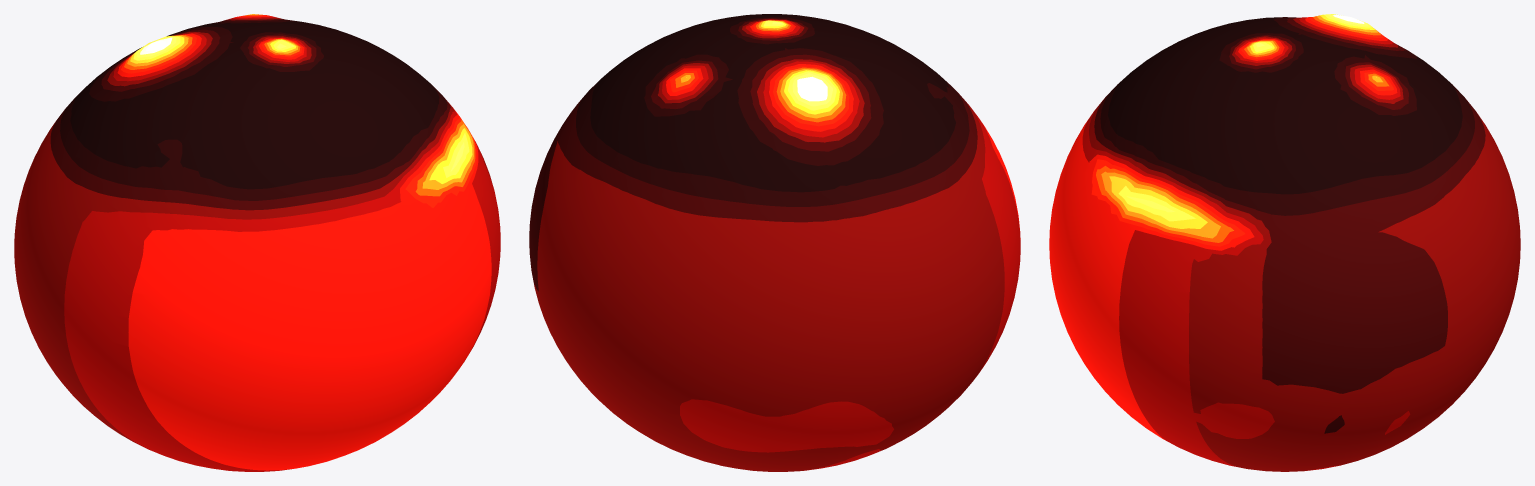
The model's file is orb_red.glb.
3 renders of one model, left to right at view 1: azimuth 30°, elevation 25°; view 2: azimuth 150°, elevation 25°; view 3: azimuth 270°, elevation 25°, orthographic.
Visible parts, largest first — view 1: orb; view 2: orb; view 3: orb.
Boxes of the visible parts, x1,y1,x2,y2 form: orb: (14,14,500,471); orb: (529,14,1020,471); orb: (1049,14,1520,471).
Size of the model in its own units: 16 by 14.7 by 15.4.
